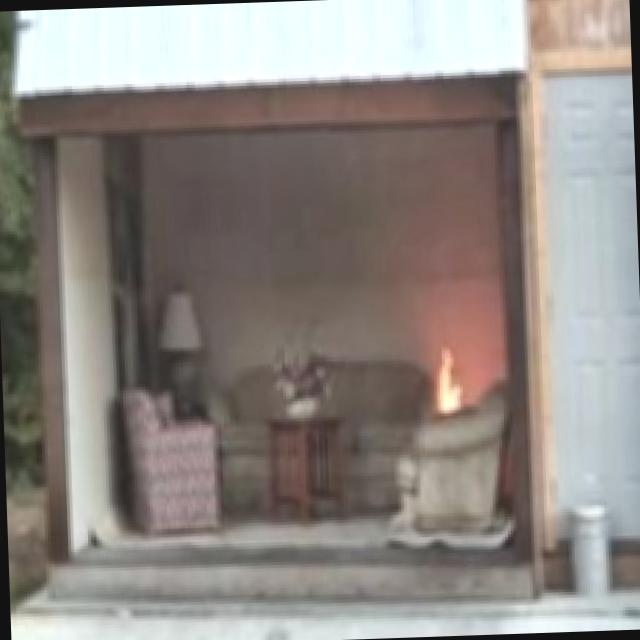fire: (404, 330, 494, 452)
